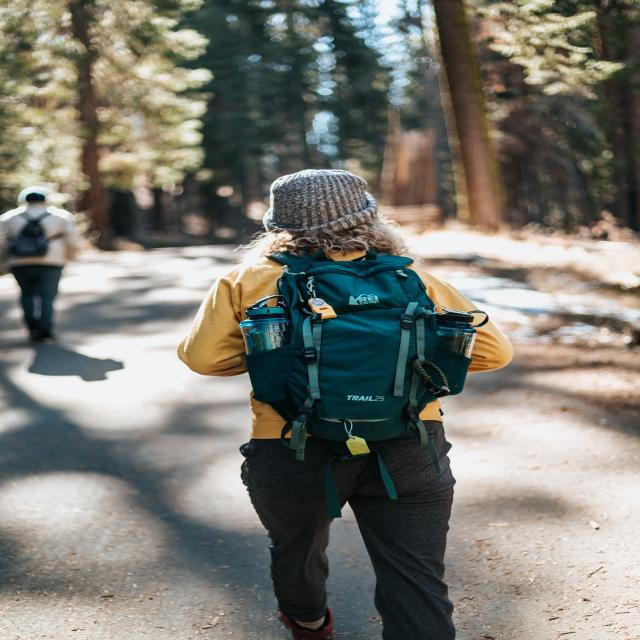backpack: (234, 253, 474, 451)
